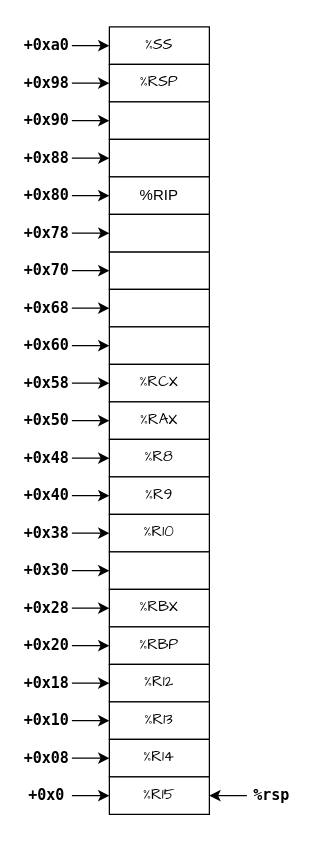
Some shapes in this 318 by 841 pixel diagram are drawn without their labels. Each missing label, with the box of its shape:
%CS: (108, 138, 209, 177)
%R11: (108, 551, 209, 589)
%RDI: (108, 251, 209, 289)
%RDX: (108, 326, 209, 364)
%RFLAGS: (108, 101, 209, 139)
%RSI: (108, 288, 209, 327)
ERROR CODE: (108, 213, 209, 252)
